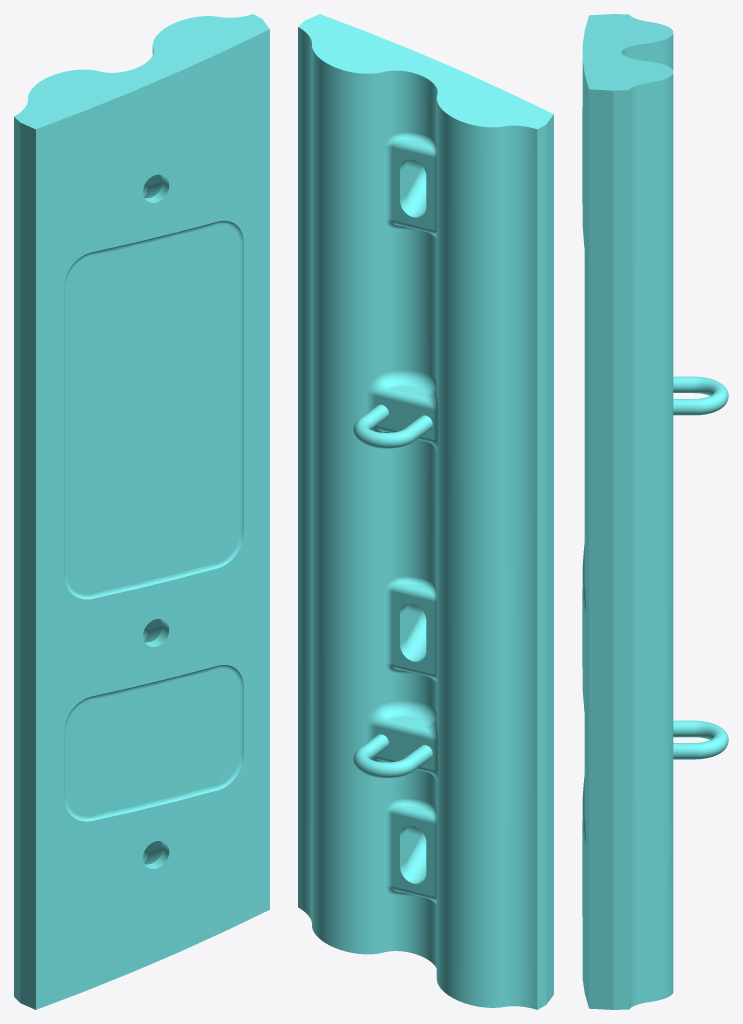
The model's file is BallMill_Overflow_ShellLiner_WaveLifter_Steel_WhiteIron_[W9_5498_34].glb.
3 renders of one model, left to right at view 1: azimuth 30°, elevation 25°; view 2: azimuth 150°, elevation 25°; view 3: azimuth 270°, elevation 25°, orthographic. The views are drawn at different scales.
Parts seen in each view (by area): view 1: Node1; view 2: Node1; view 3: Node1.
Part boxes in pixels (x1,y1,x2,y2): Node1: (14, 14, 269, 1009); Node1: (298, 14, 553, 1009); Node1: (582, 14, 728, 1009).
Size of the model in its own units: 0.4417 by 1.61 by 0.2215.
